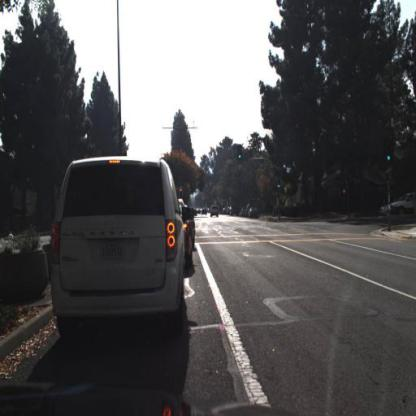car: (50, 154, 187, 351), (182, 202, 199, 270), (390, 183, 416, 221), (209, 202, 223, 223), (249, 207, 259, 222)
trafficLight-Green: (236, 144, 245, 165), (387, 143, 393, 163), (276, 176, 283, 192), (238, 146, 243, 167), (388, 148, 393, 169), (276, 181, 281, 197)
trafficLight-Red: (179, 187, 185, 201)
